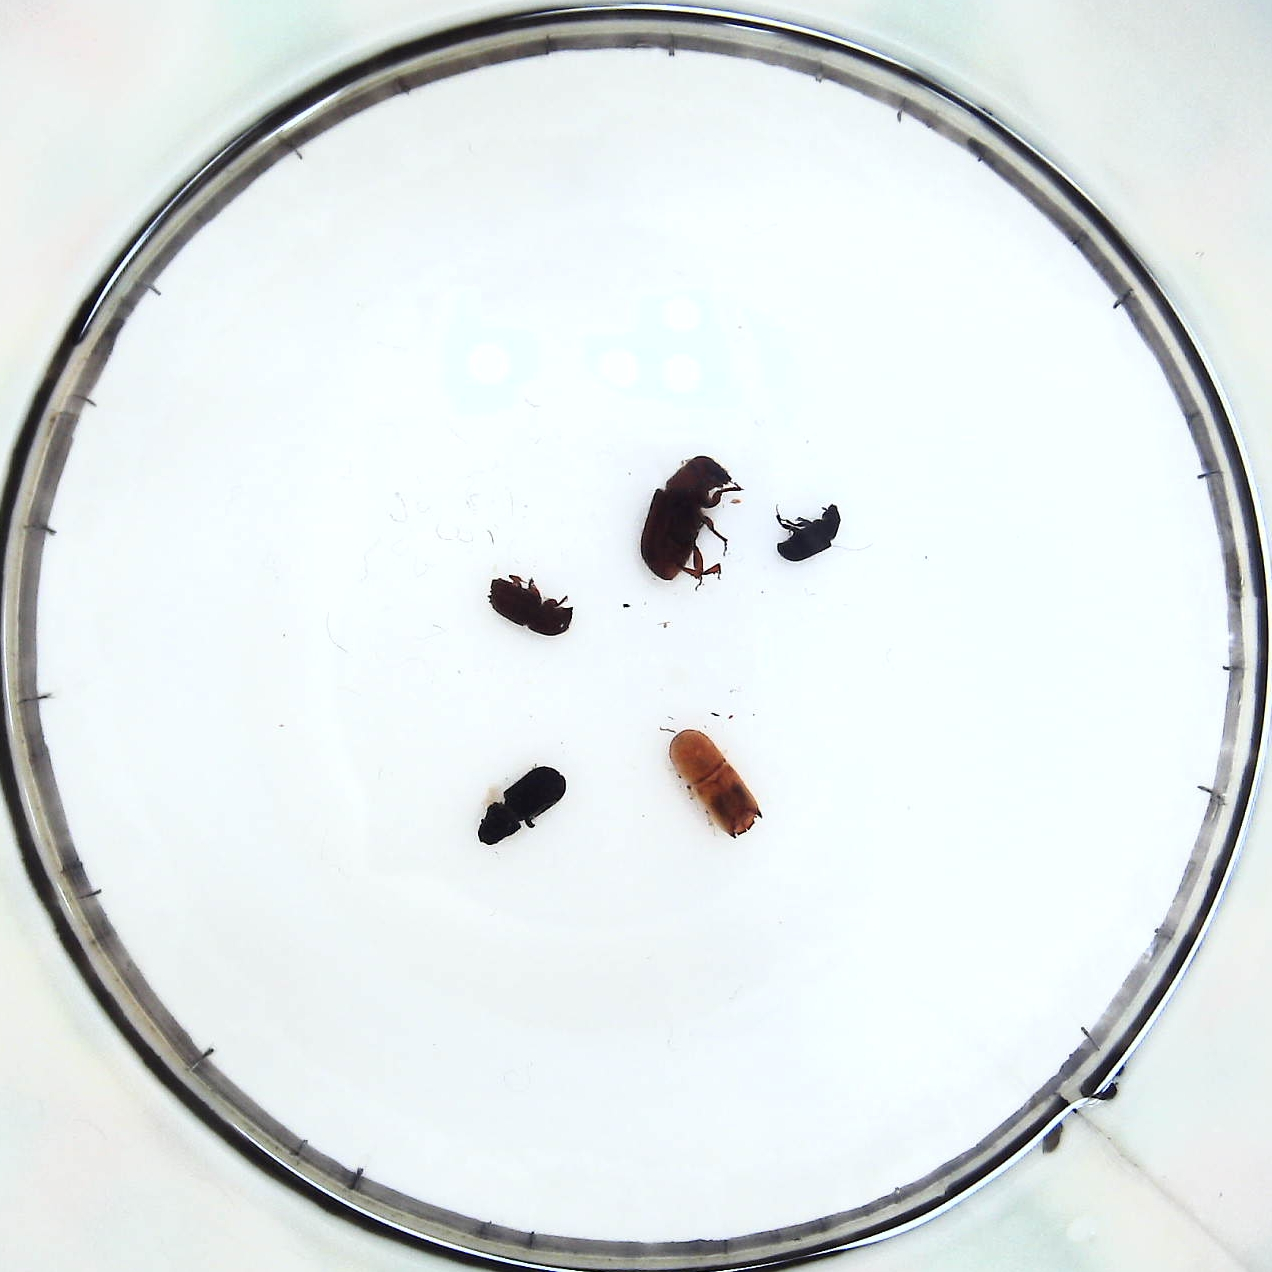Boerner: (663, 728, 759, 840)
Leconte: (638, 452, 735, 586)
Linnaeus: (492, 574, 573, 638)
armandi: (472, 768, 567, 846)
coleoptera: (776, 506, 840, 565)
